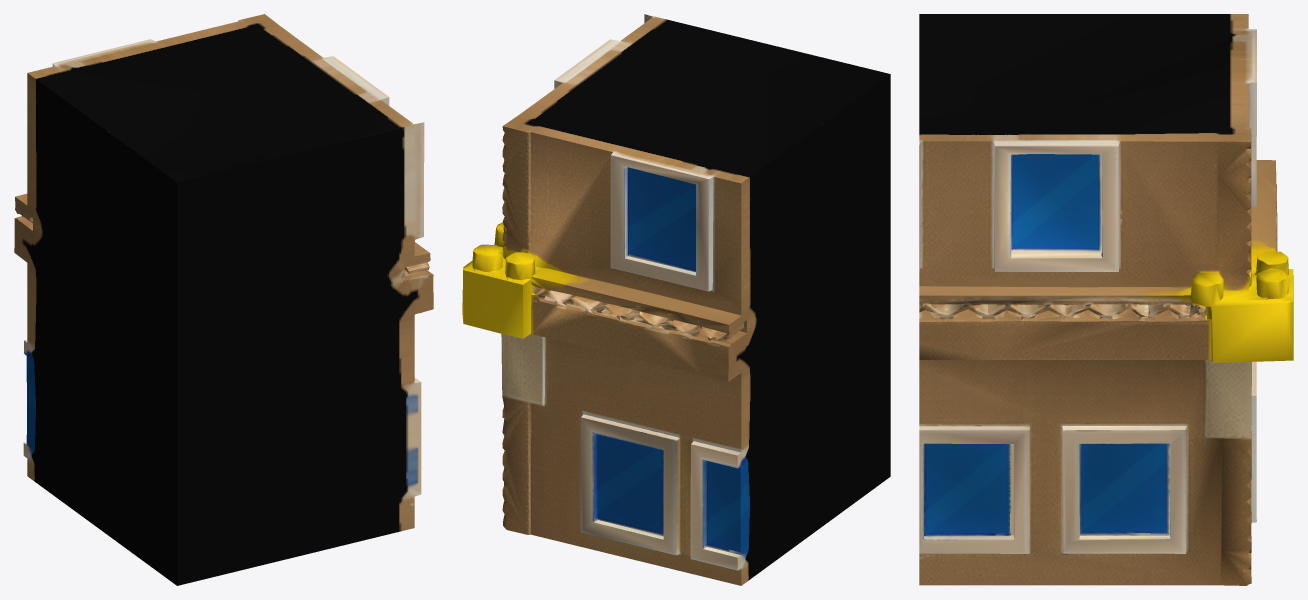
File: 8-upper-walls-back-right.fbx
The picture shows the model from 3 angles, left to right: view 1: azimuth 30°, elevation 25°; view 2: azimuth 150°, elevation 25°; view 3: azimuth 270°, elevation 25°; orthographic projection. The views are drawn at different scales.
Parts seen in each view (by area): view 1: upper-walls-back-right; view 2: upper-walls-back-right; view 3: upper-walls-back-right.
Boxes of the visible parts, left/top/right/bottom form: upper-walls-back-right: left=14, top=14, right=433, bottom=585; upper-walls-back-right: left=462, top=14, right=890, bottom=585; upper-walls-back-right: left=919, top=14, right=1293, bottom=585.
Size of the model in its own units: 5120 by 7482 by 5722.
1 material, 1 textured.
